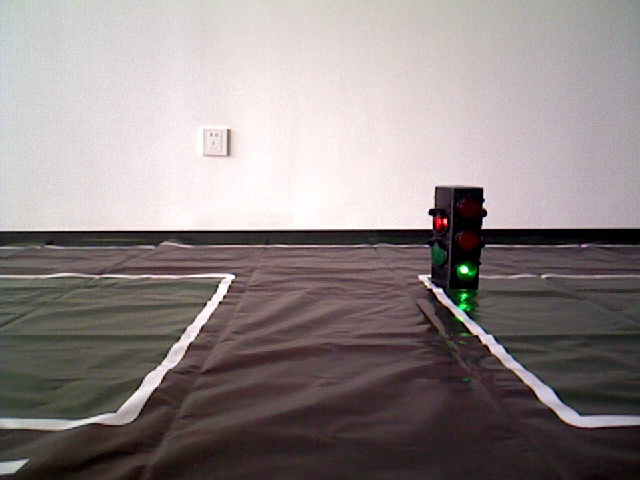green: (433, 189, 480, 282)
